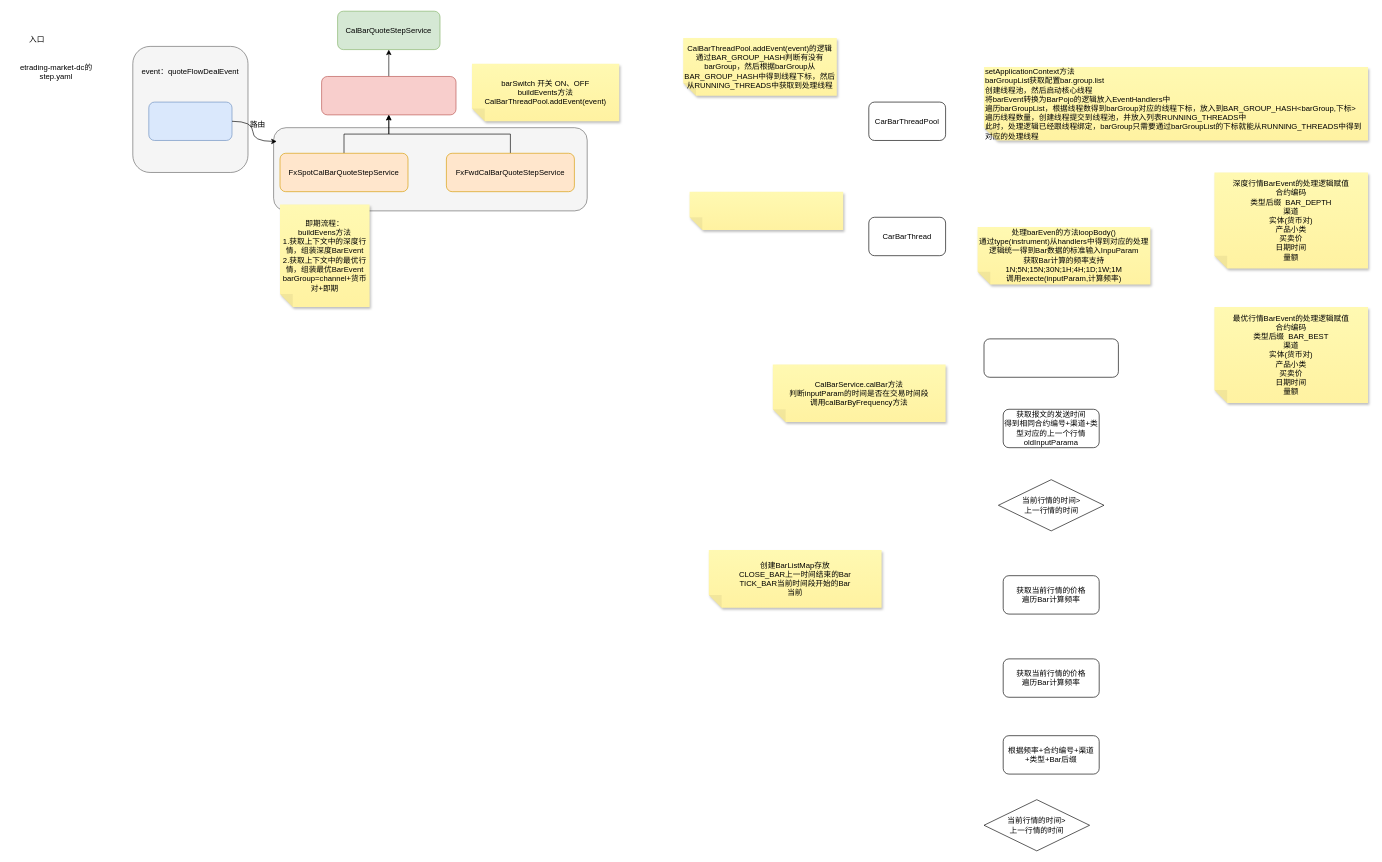
Image size: 1382x862. Some labels were removed from this diagram. Here are the shapes that lost their labels. From the top down, the centre of each, then its label:
the point at 388,95: AbstractCalBarQuoteStepService
the point at 190,120: step: calBarQuoteStep
the point at 767,211: 线程池调用了线程的addEvent方法 队列添加event
the point at 1050,357: 创建BarListMap存放 CLOSE_BAR上一时间结束的Bar TICK_BAR当前时间段开始的Bar
